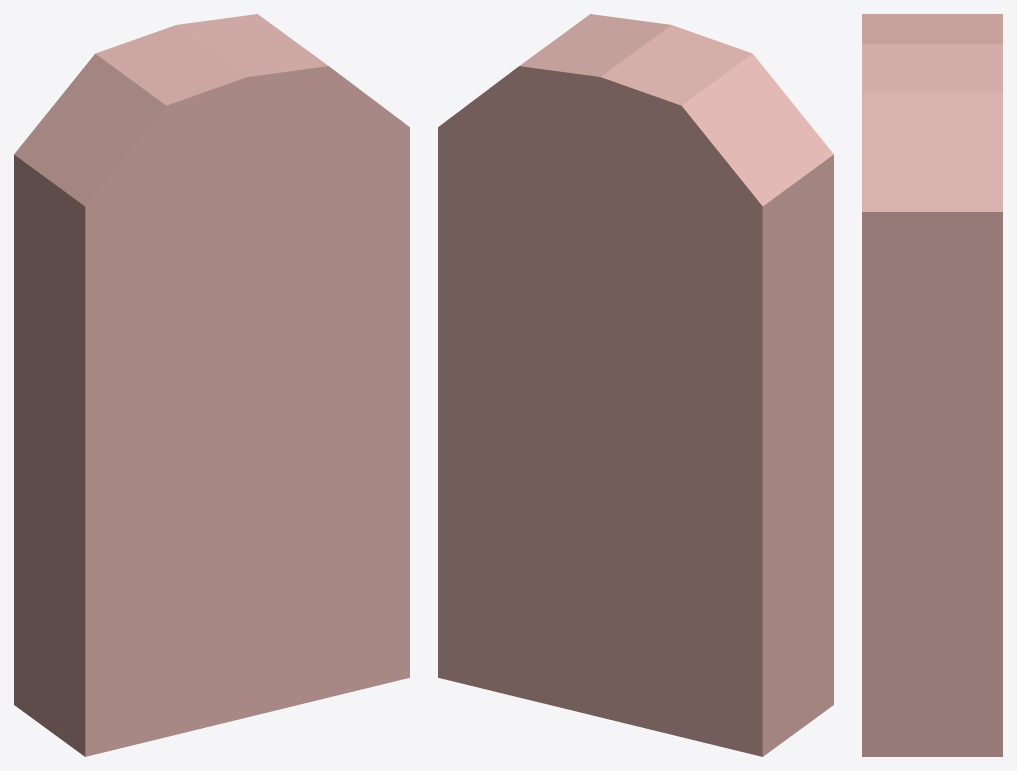
The model's file is Door.fbx.
3 views of the same model, side by side, from view 1: azimuth 30°, elevation 25°; view 2: azimuth 150°, elevation 25°; view 3: azimuth 270°, elevation 25° (orthographic).
Visible parts, largest first — view 1: Door; view 2: Door; view 3: Door.
Part boxes in pixels (x1,y1,x2,y2): Door: [14, 14, 409, 756]; Door: [438, 14, 833, 756]; Door: [862, 14, 1002, 756].
Size of the model in its own units: 359 by 676 by 136.
